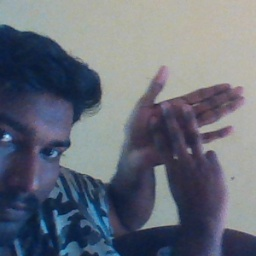M: (119, 63, 246, 226)
